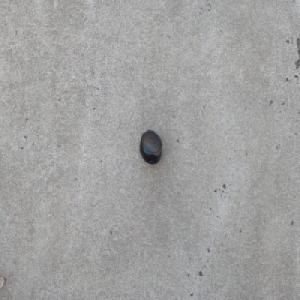FuelCap: (139, 129, 162, 165)
